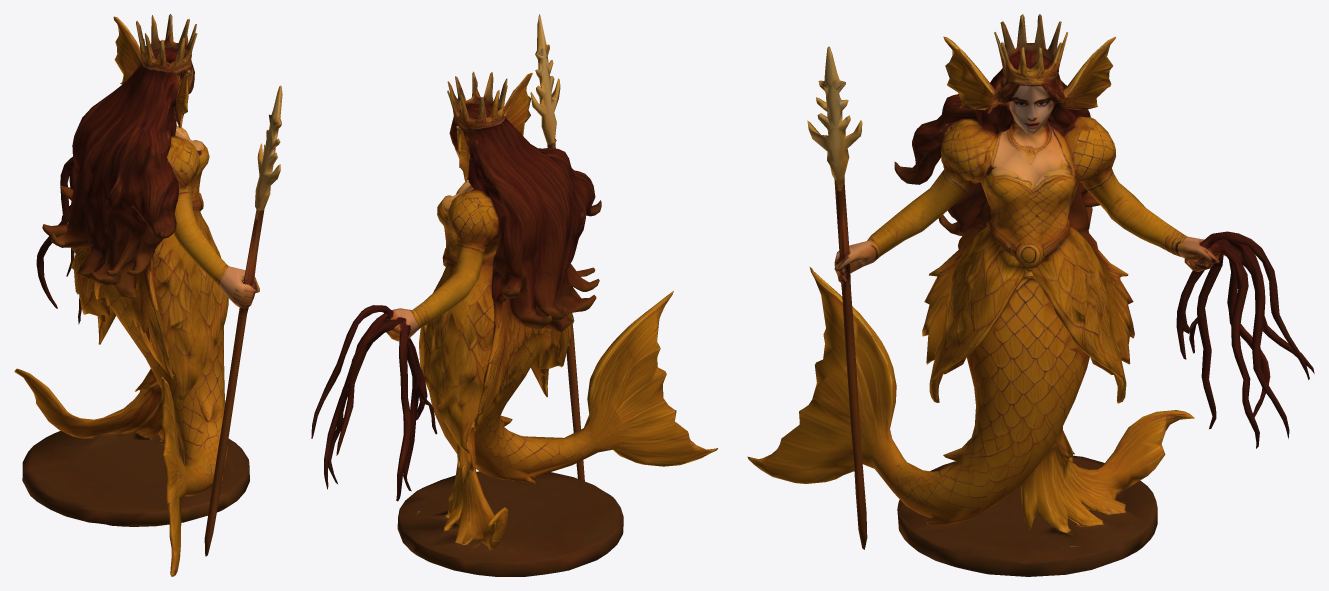
The picture shows the model from 3 angles, left to right: view 1: azimuth 30°, elevation 25°; view 2: azimuth 150°, elevation 25°; view 3: azimuth 270°, elevation 25°; orthographic projection. The views are drawn at different scales.
Visible parts, largest first — view 1: tripo_node_ccb61142-cd0a-4c5f-92a3-508eeebdb393; view 2: tripo_node_ccb61142-cd0a-4c5f-92a3-508eeebdb393; view 3: tripo_node_ccb61142-cd0a-4c5f-92a3-508eeebdb393.
Boxes of the visible parts, x1,y1,x2,y2 form: tripo_node_ccb61142-cd0a-4c5f-92a3-508eeebdb393: (14, 14, 282, 576); tripo_node_ccb61142-cd0a-4c5f-92a3-508eeebdb393: (311, 14, 717, 576); tripo_node_ccb61142-cd0a-4c5f-92a3-508eeebdb393: (747, 14, 1314, 576).
Bounding box in the file's own units: 0.437 × 0.9993 × 0.9501.
Materials: 1 (1 with a texture image).
